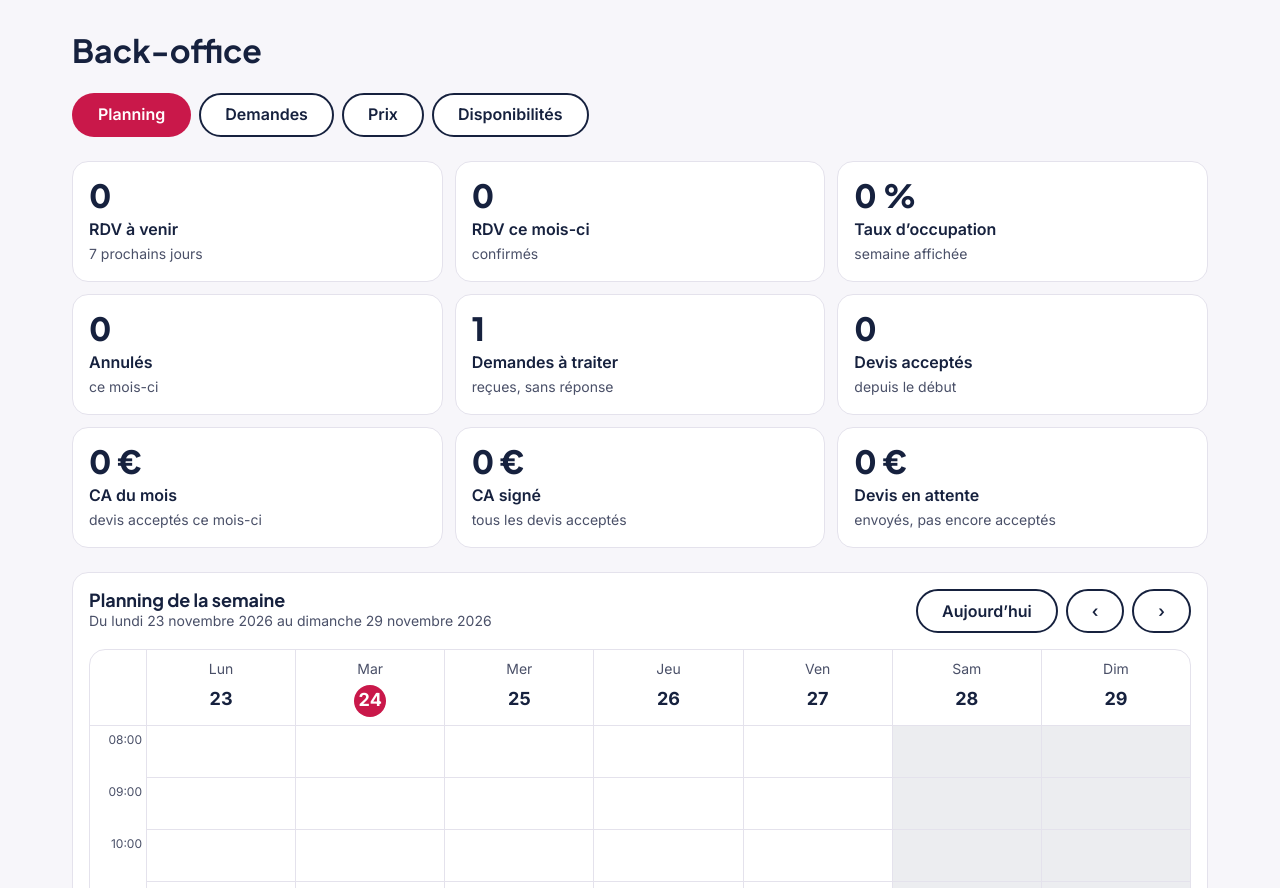
it: Back-office : demandes › ouvre le détail avec les coordonnées et le fil
The image size is (1280, 888).
Click the button "Demandes" at (267, 115), box [199, 93, 334, 137]
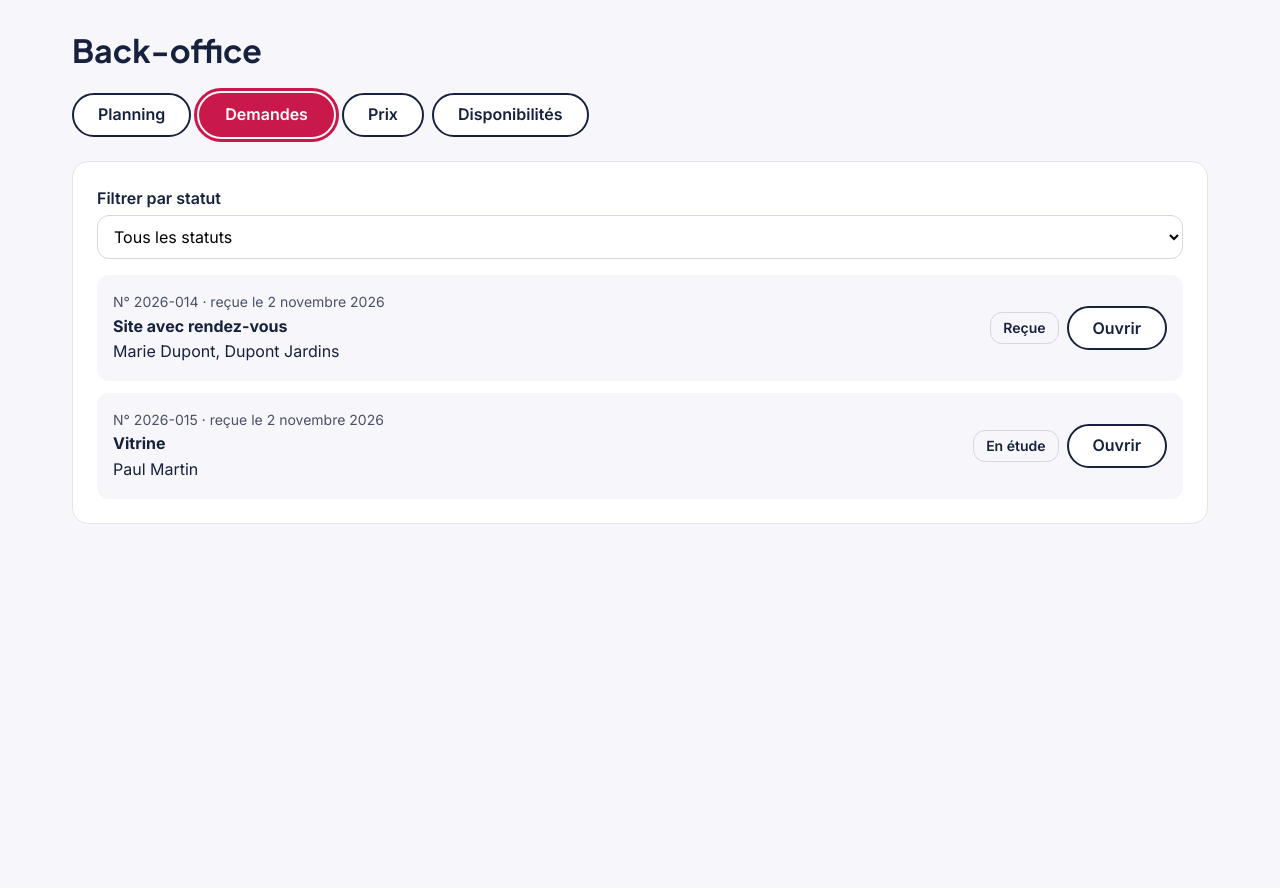
Click the button with aria-label "Ouvrir la demande 2026-014" at (1117, 328), box [1066, 306, 1167, 350]
(page scrolled)
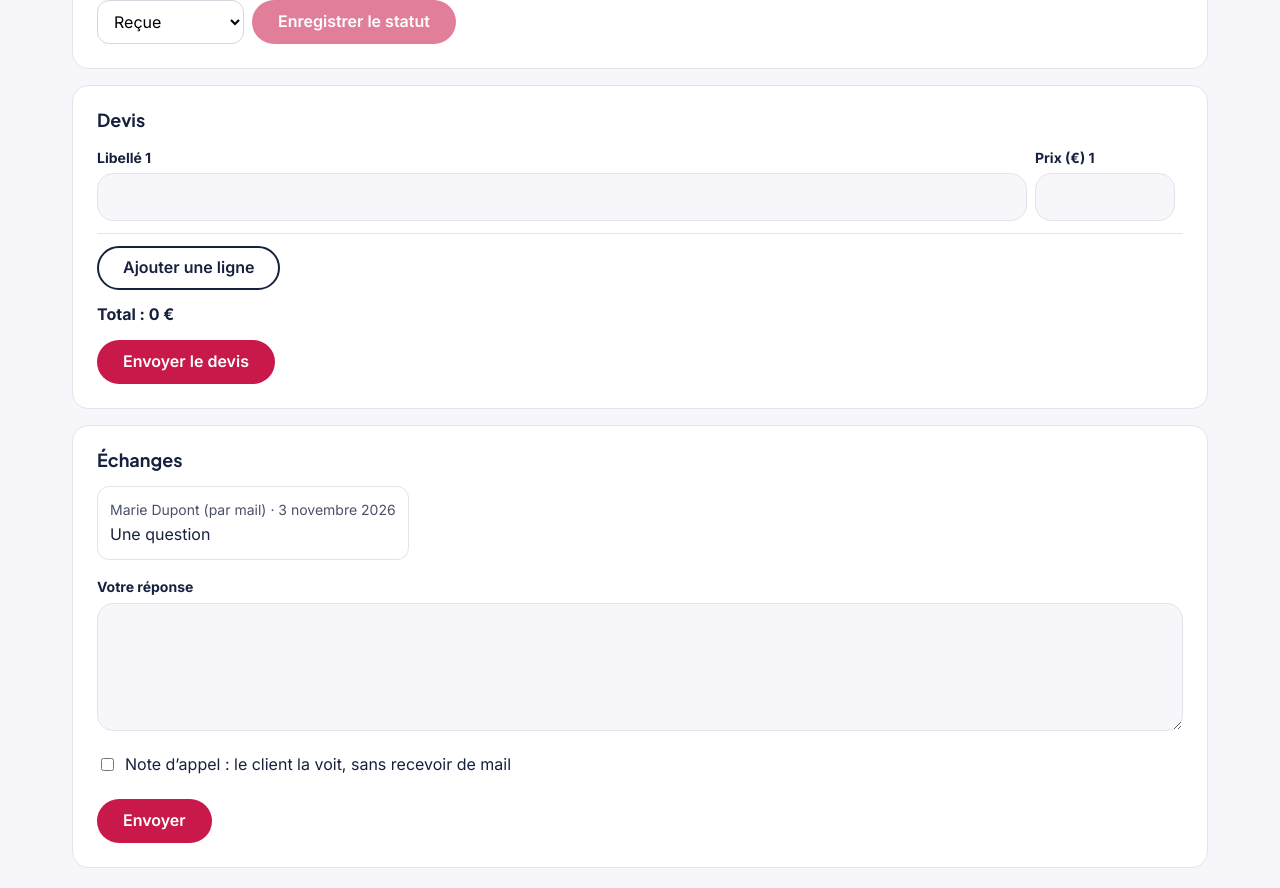
Expected: the text "Marie Dupont (par mail) · 3 novembre 2026" is shown, [110, 499, 396, 522]
